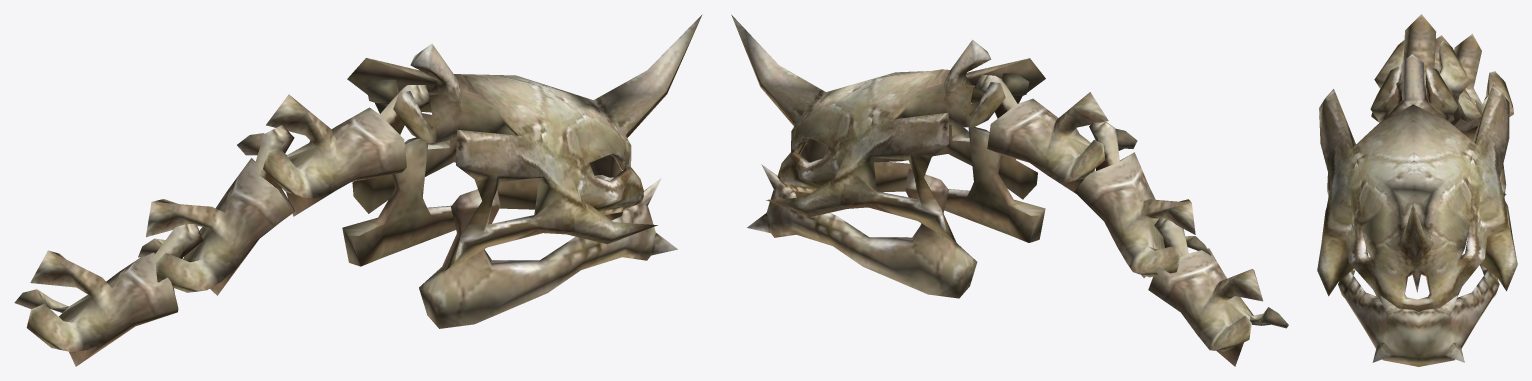
The model's file is w_cd_bigtortoise03.glb.
3 renders of one model, left to right at view 1: azimuth 30°, elevation 25°; view 2: azimuth 150°, elevation 25°; view 3: azimuth 270°, elevation 25°, orthographic. The views are drawn at different scales.
Visible parts, largest first — view 1: W_cd_bigtortoise03; view 2: W_cd_bigtortoise03; view 3: W_cd_bigtortoise03.
Part boxes in pixels (left/top/right/bottom): W_cd_bigtortoise03: left=14, top=14, right=702, bottom=366; W_cd_bigtortoise03: left=731, top=14, right=1288, bottom=366; W_cd_bigtortoise03: left=1317, top=14, right=1517, bottom=366.
Bounding box in the file's own units: 14.66 × 5.73 × 4.47.
1 material, 1 textured.
